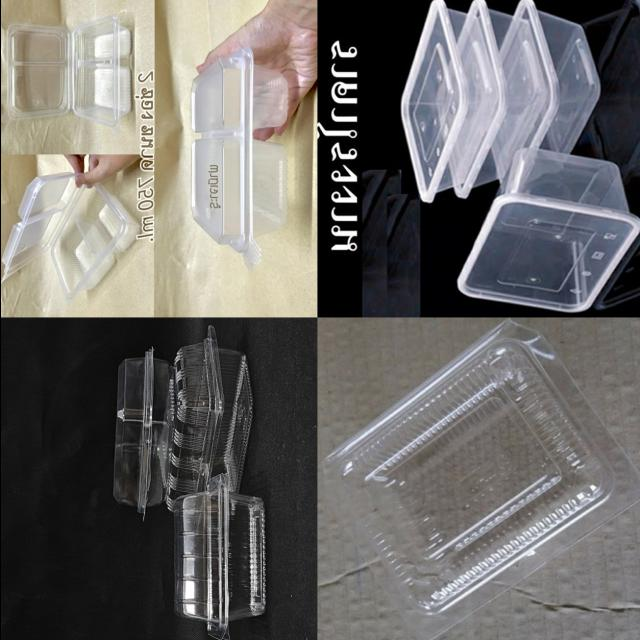plastik: (323, 320, 640, 639), (457, 149, 640, 312), (191, 48, 287, 268), (449, 0, 549, 198), (401, 0, 498, 203), (491, 0, 599, 181), (0, 172, 137, 303), (158, 326, 251, 510), (174, 474, 263, 640), (6, 15, 131, 127), (112, 348, 170, 514)
